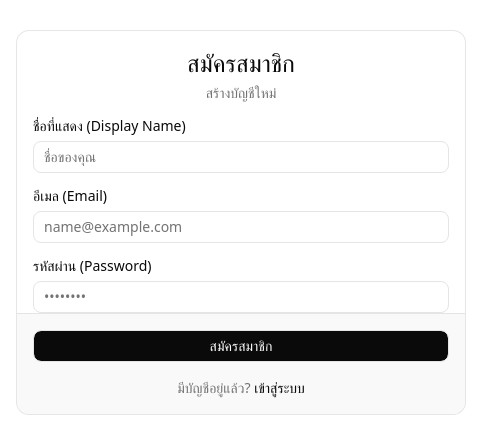
Test: RegisterPage › validates password minimum length
The image size is (483, 446).
Type "Test User" into the field labelled "ชื่อที่แสดง (Display Name)" at point(241, 156), box [33,140,449,172]
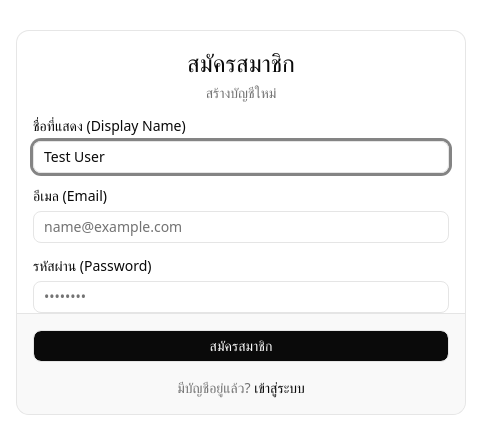
Type "test@example.com" into the field labelled "อีเมล (Email)" at point(241, 226), box [33,210,449,242]
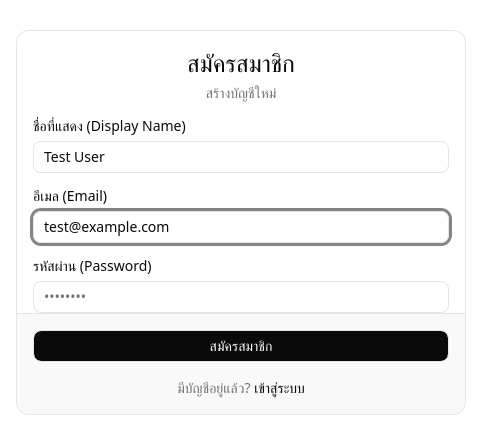
Type "short" into the password field labelled "รหัสผ่าน (Password)" at point(241, 296), box [33,280,449,312]
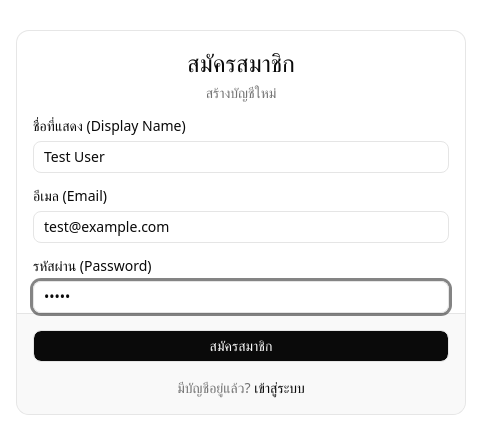
Click the button "สมัครสมาชิก" at point(241, 346), box [33,330,449,362]
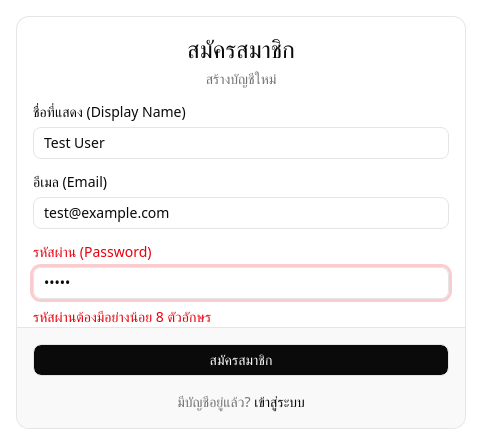
Result: the text "รหัสผ่านต้องมีอย่างน้อย 8 ตัวอักษร" is shown at [33,306,211,326]
